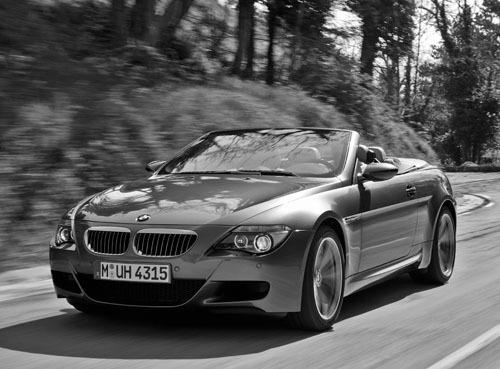car: (49, 129, 458, 334)
